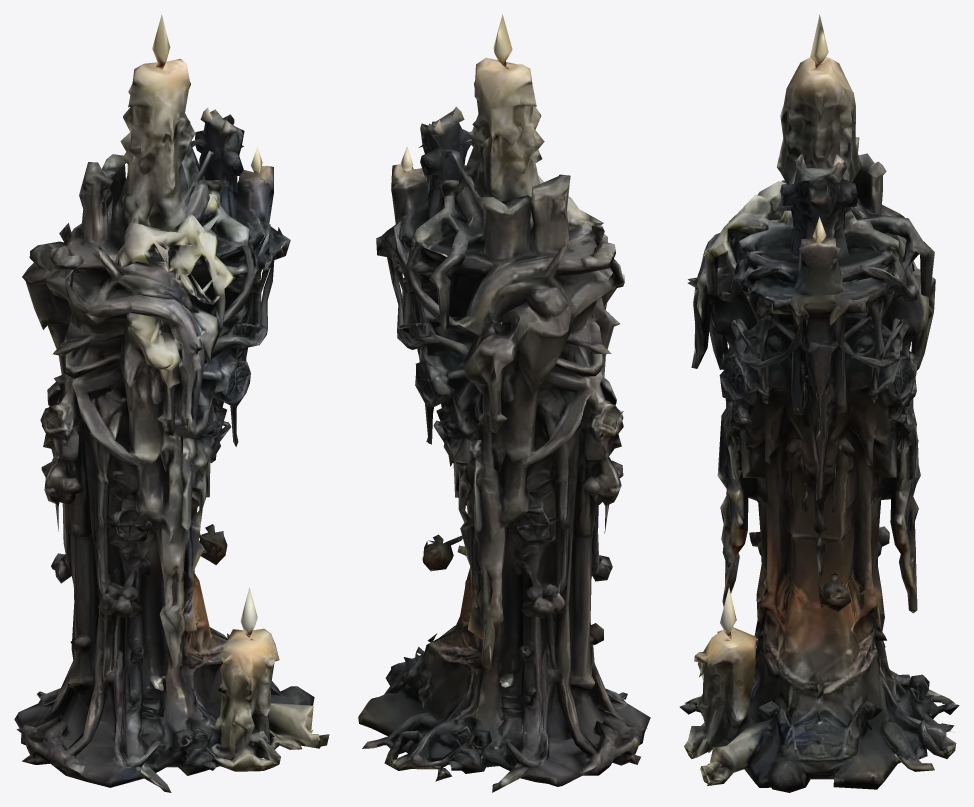
File: boss_candle_mother.glb
3 renders of one model, left to right at view 1: azimuth 30°, elevation 25°; view 2: azimuth 150°, elevation 25°; view 3: azimuth 270°, elevation 25°, orthographic.
Parts seen in each view (by area): view 1: tripo_node_bd5e603c-0205-444b-8482-6e18bb83bd72; view 2: tripo_node_bd5e603c-0205-444b-8482-6e18bb83bd72; view 3: tripo_node_bd5e603c-0205-444b-8482-6e18bb83bd72.
Part boxes in pixels (x1,y1,x2,y2): tripo_node_bd5e603c-0205-444b-8482-6e18bb83bd72: (14, 14, 329, 792); tripo_node_bd5e603c-0205-444b-8482-6e18bb83bd72: (358, 14, 650, 792); tripo_node_bd5e603c-0205-444b-8482-6e18bb83bd72: (679, 14, 959, 792).
Bounding box in the file's own units: 0.3805 × 0.9672 × 0.3417.
Materials: 1 (1 with a texture image).
